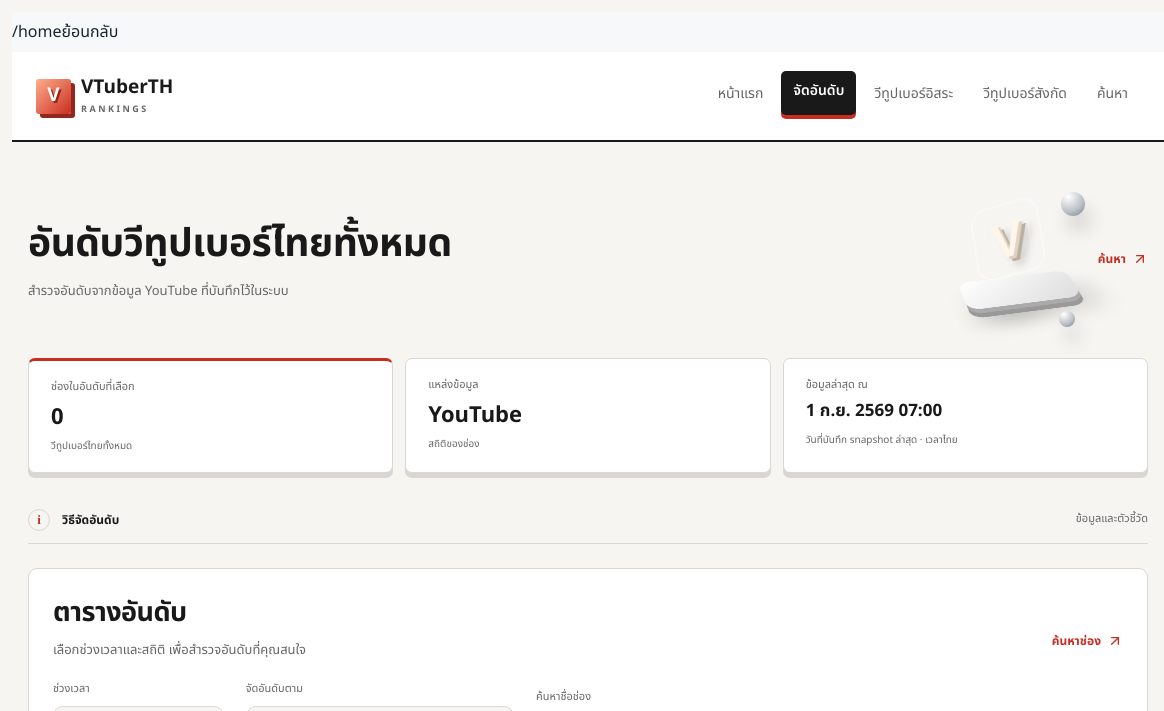
Test: Stats page › opens the all ranking at /home and filters the ranking menu by affiliation
Expected: the heading "อันดับวีทูปเบอร์ไทยทั้งหมด" is shown, x1=28 y1=216 x2=452 y2=274
What coordinates should you click on to do the following:
click the link "วีทูปเบอร์อิสระ"
I would click on:
 (914, 94)
Its box is x1=874 y1=83 x2=953 y2=104.
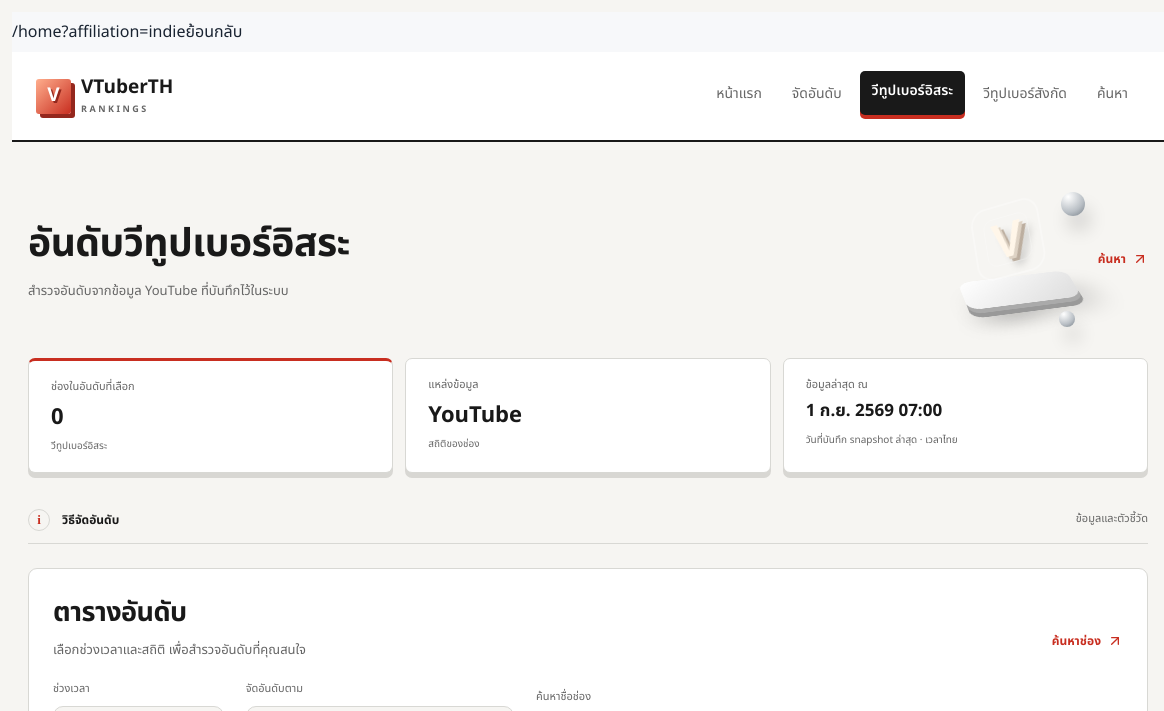
Expected: the heading "อันดับวีทูปเบอร์อิสระ" is shown, x1=28 y1=216 x2=350 y2=274
